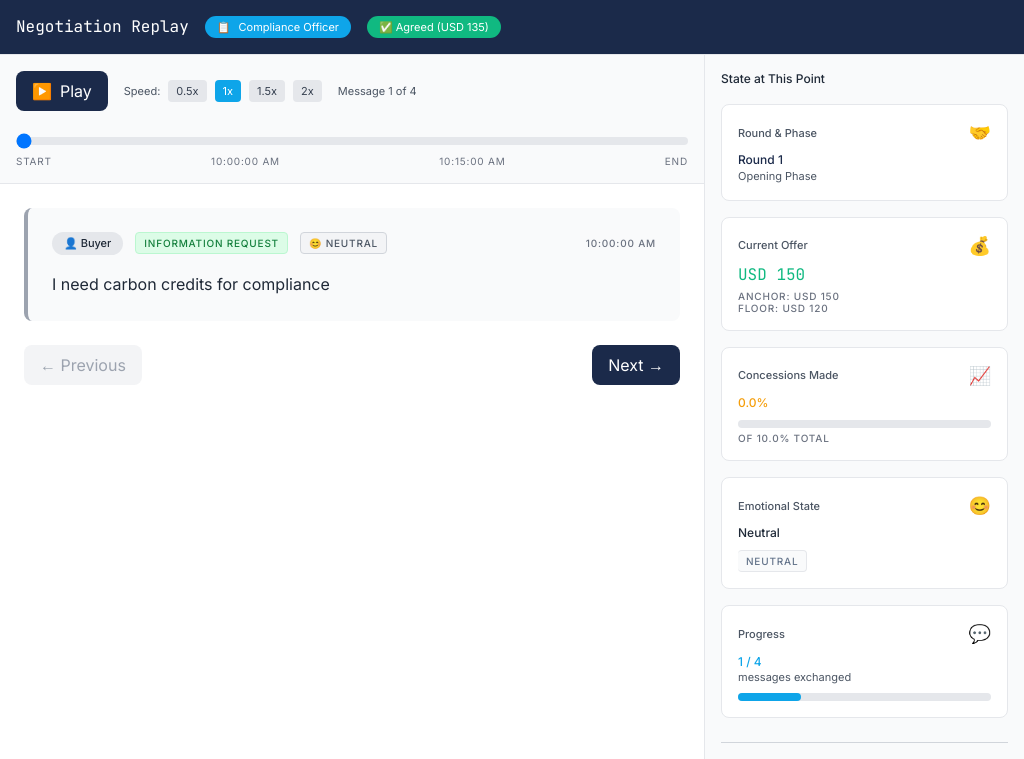
ReplayViewer › Navigation Controls › next button is disabled at last message
The image size is (1024, 759).
Note: Navigate to last message
Click the button "Next →": [636, 365] box x1=592 y1=345 x2=680 y2=385
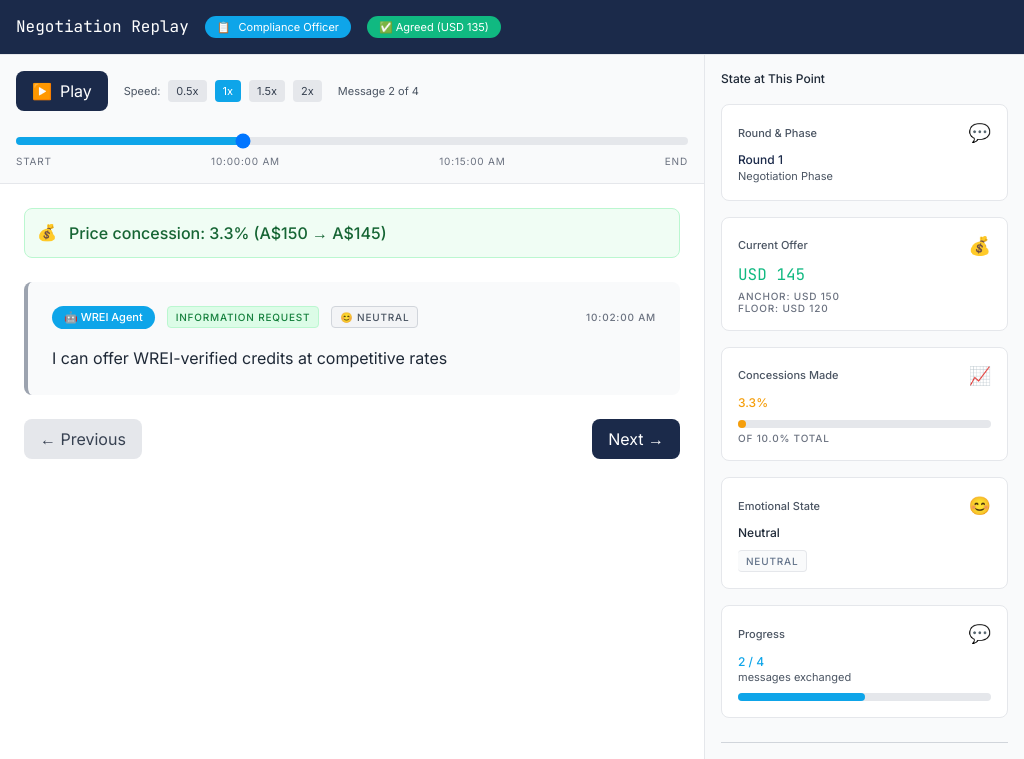
Click the button "Next →": [636, 439] box x1=592 y1=419 x2=680 y2=459
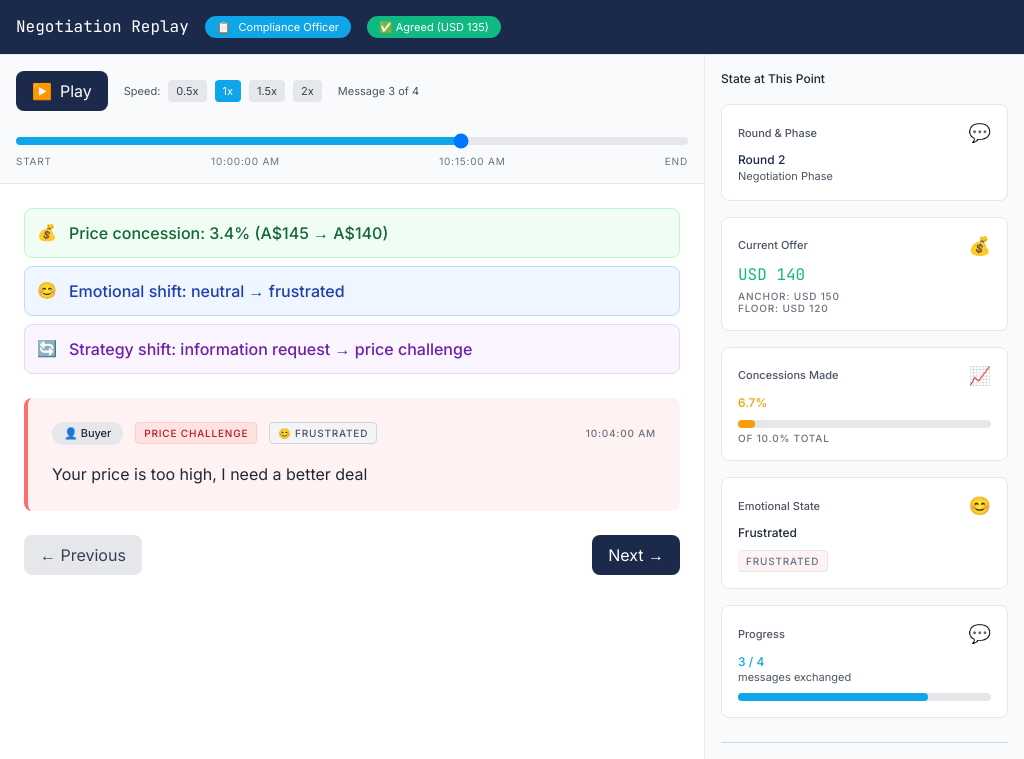
Click the button "Next →": [636, 555] box x1=592 y1=535 x2=680 y2=575
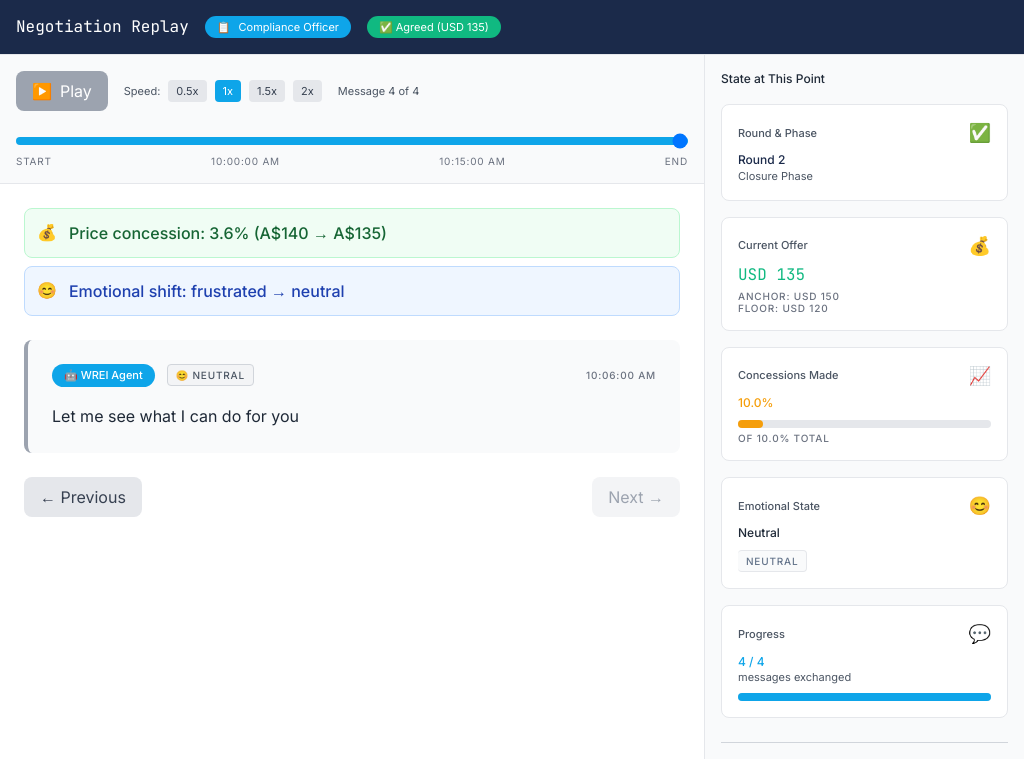
Result: the button "Next →" is disabled at x1=592 y1=477 x2=680 y2=517
Result: the text "Message 4 of 4" is shown at x1=338 y1=84 x2=419 y2=98
